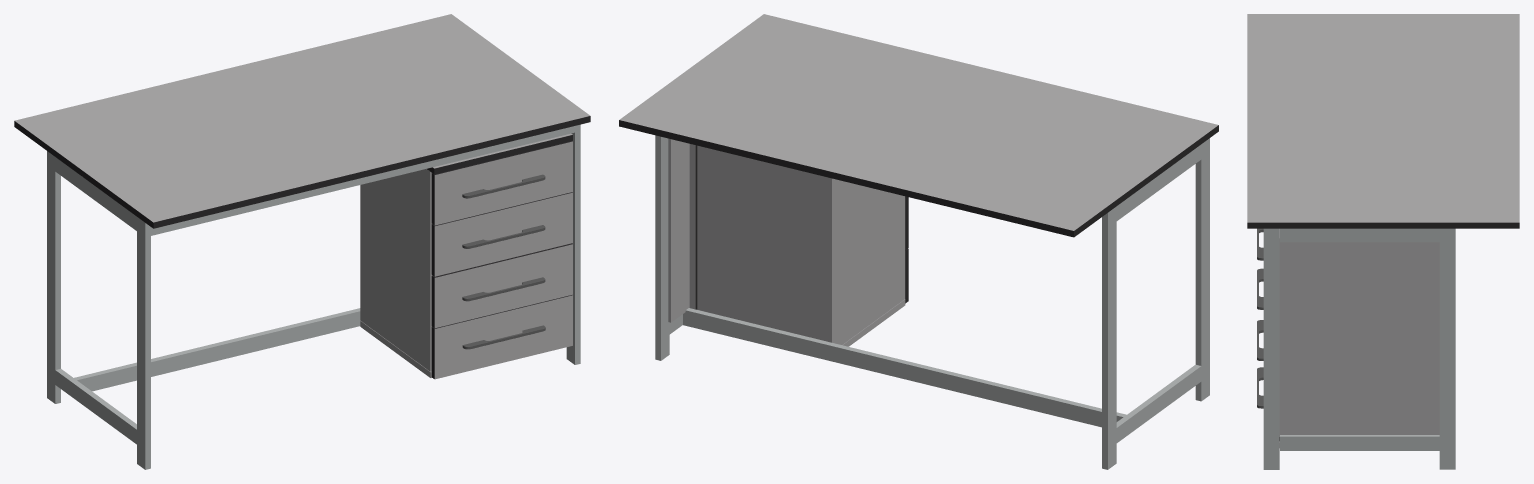
The model's file is Table 1.FBX.
3 renders of one model, left to right at view 1: azimuth 30°, elevation 25°; view 2: azimuth 150°, elevation 25°; view 3: azimuth 270°, elevation 25°, orthographic. The views are drawn at different scales.
Visible parts, largest first — view 1: Table 1; view 2: Table 1; view 3: Table 1.
Part boxes in pixels (left/top/right/bottom): Table 1: left=14, top=14, right=590, bottom=469; Table 1: left=619, top=14, right=1218, bottom=469; Table 1: left=1247, top=14, right=1519, bottom=469.
Size of the model in its own units: 1356 by 748 by 751.
